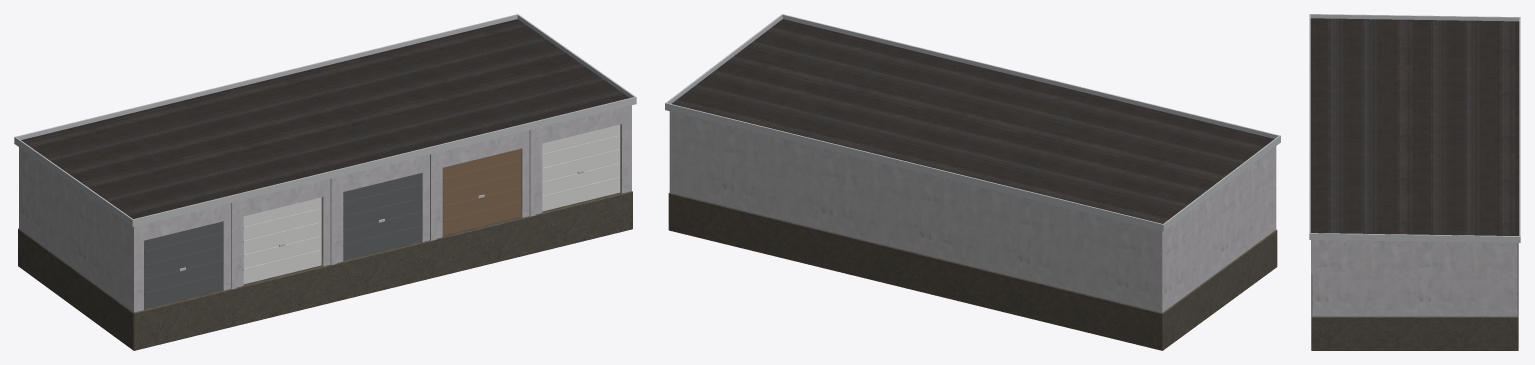
The model's file is garage-row.glb.
3 renders of one model, left to right at view 1: azimuth 30°, elevation 25°; view 2: azimuth 150°, elevation 25°; view 3: azimuth 270°, elevation 25°, orthographic. The views are drawn at different scales.
Visible parts, largest first — view 1: garage-row-plaster0; view 2: garage-row-plaster0; view 3: garage-row-plaster0.
Part boxes in pixels (x1,y1,x2,y2): garage-row-plaster0: [14, 14, 636, 350]; garage-row-plaster0: [665, 14, 1280, 350]; garage-row-plaster0: [1309, 14, 1520, 350].
Size of the model in its own units: 15.18 by 3.82 by 6.18.
7 materials, 3 textured.
